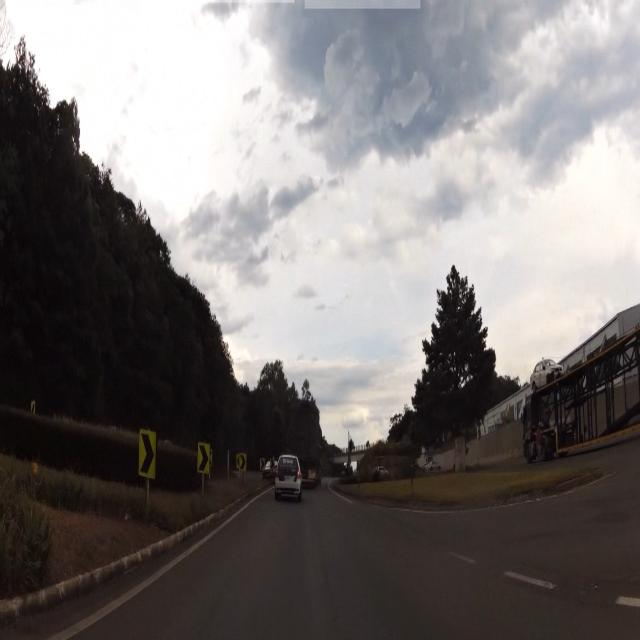Del: (138, 430, 157, 478), (197, 439, 210, 476)
